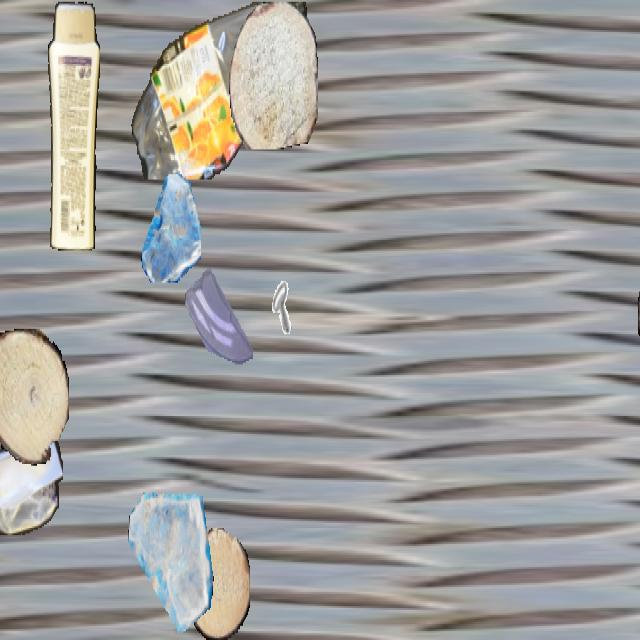glass: (127, 486, 213, 638), (185, 256, 253, 377), (140, 174, 200, 281)
metal: (247, 272, 293, 354)
plastic: (130, 2, 312, 180), (45, 2, 99, 250), (0, 427, 62, 533)
wood: (229, 2, 317, 148), (0, 329, 68, 464), (188, 528, 250, 638), (638, 252, 640, 374)
